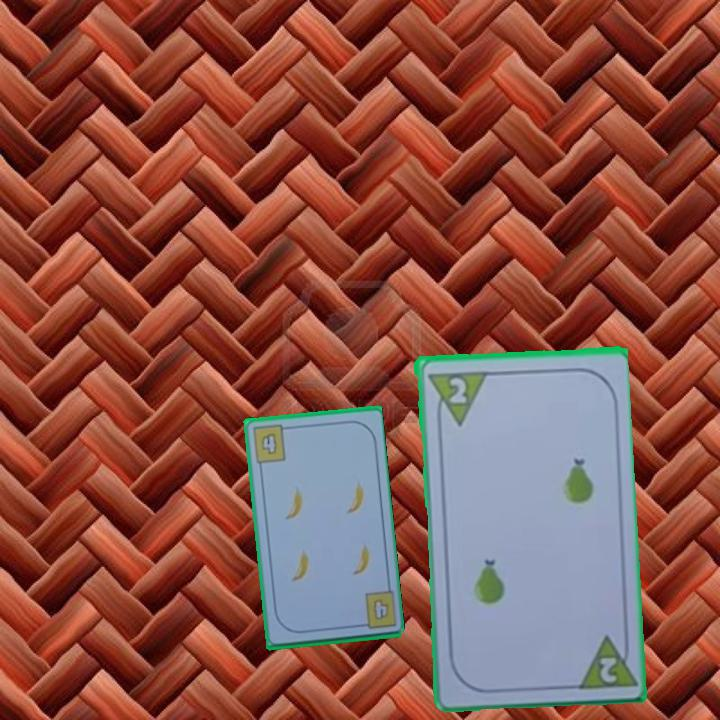2p: (572, 629, 637, 692), (423, 366, 488, 428)
4b: (248, 421, 292, 466), (369, 595, 392, 623)
